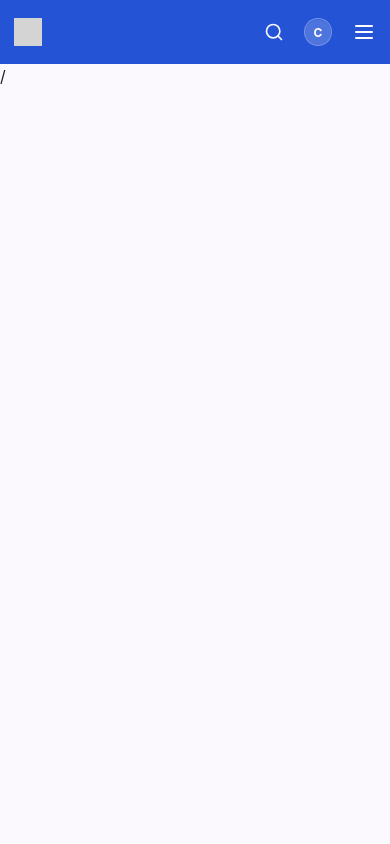
it: PublicHeader › preserves mobile menu, message, and account routes for client
Click the button named "Mở menu": (364, 32) [352, 20, 376, 44]
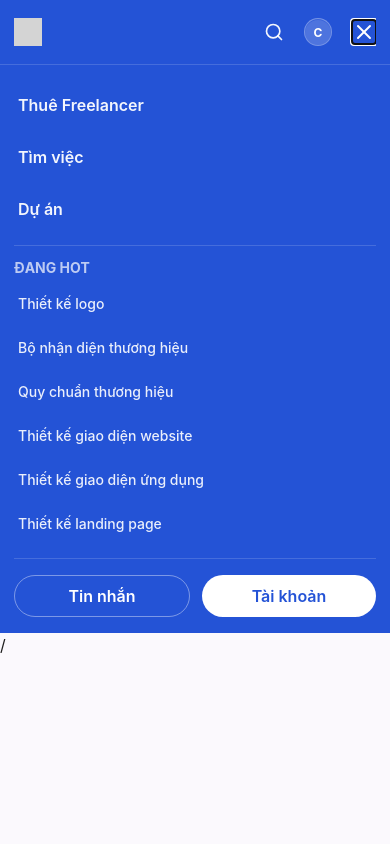
Result: the text "Đang Hot" is shown at [14, 259, 90, 276]
Click the button "Tin nhắn": (102, 596) [14, 575, 190, 617]
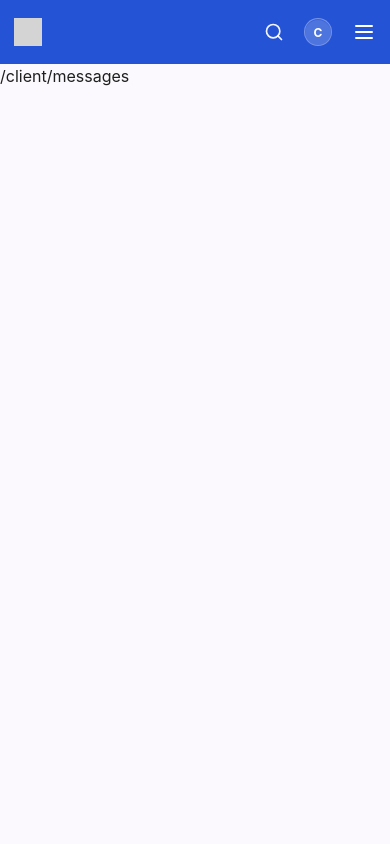
Result: the text with test id "current-location" reads "/client/messages" at [0, 66, 129, 86]
Click the button named "Mở menu": (364, 32) [352, 20, 376, 44]
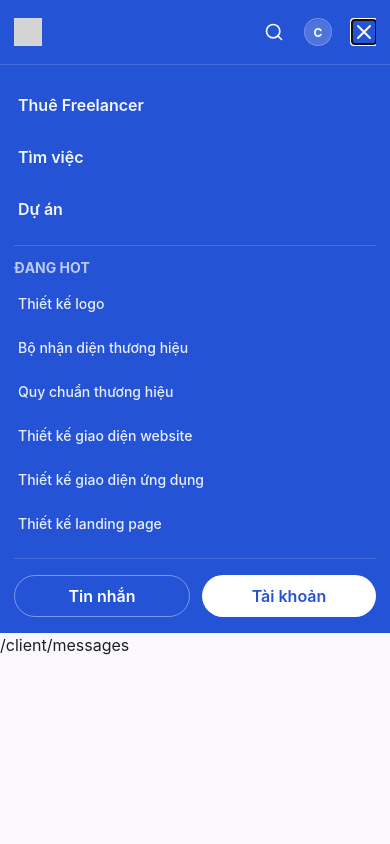
Click the button "Tài khoản": (289, 596) [202, 575, 376, 617]
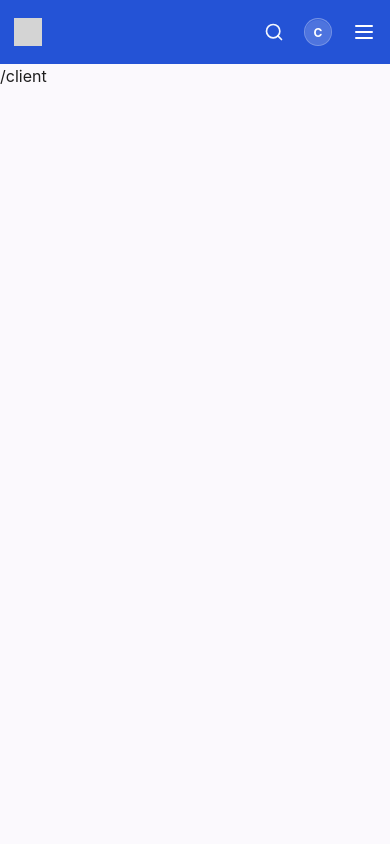
Result: the text with test id "current-location" reads "/client" at [0, 66, 47, 86]
